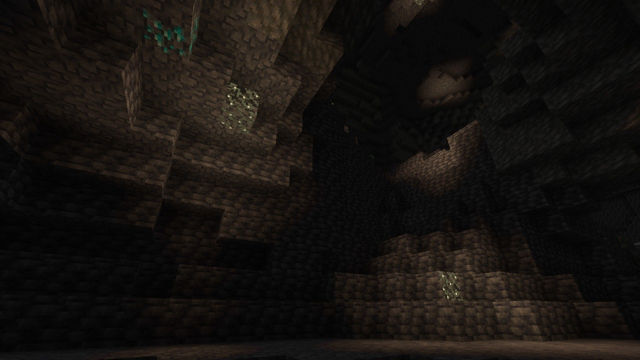diamond: (138, 9, 202, 61)
